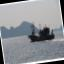fishing boat: (25, 18, 56, 44)
